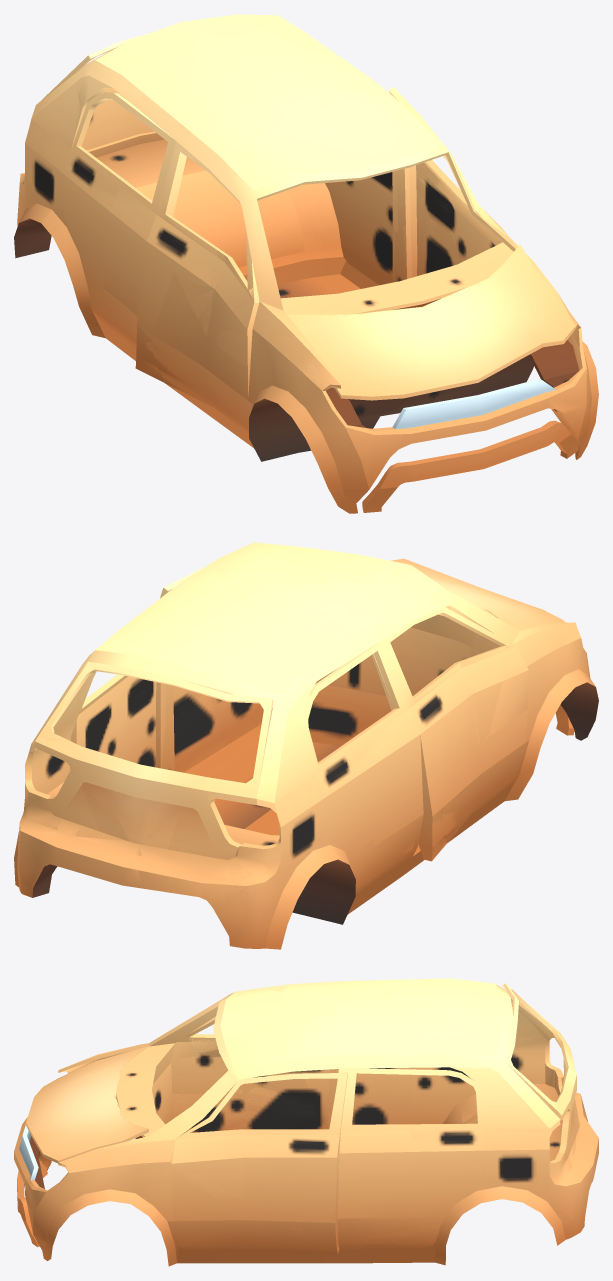
Rendered from block_car_01.fbx.
The picture shows the model from 3 angles, top to bottom: view 1: azimuth 30°, elevation 25°; view 2: azimuth 150°, elevation 25°; view 3: azimuth 270°, elevation 25°; orthographic projection. The views are drawn at different scales.
Parts seen in each view (by area): view 1: body_solid, hood_solid, door_front_r_solid, door_back_r_solid, door_front_l_solid, door_back_l_solid, trunk_solid; view 2: body_solid, door_front_r_solid, trunk_solid, door_back_r_solid, door_back_l_solid, door_front_l_solid, hood_solid; view 3: body_solid, door_front_l_solid, door_back_l_solid, door_front_r_solid, hood_solid, door_back_r_solid, trunk_solid.
Part boxes in pixels (x1=…): body_solid: x1=14, y1=14, x2=598, y2=513; hood_solid: x1=287, y1=244, x2=575, y2=400; door_front_r_solid: x1=135, y1=141, x2=259, y2=433; door_back_r_solid: x1=63, y1=92, x2=176, y2=349; door_front_l_solid: x1=388, y1=87, x2=511, y2=275; door_back_l_solid: x1=325, y1=165, x2=417, y2=285; trunk_solid: x1=41, y1=34, x2=153, y2=150; body_solid: x1=14, y1=542, x2=598, y2=949; door_front_r_solid: x1=382, y1=607, x2=528, y2=861; trunk_solid: x1=34, y1=661, x2=273, y2=859; door_back_r_solid: x1=308, y1=640, x2=423, y2=894; door_back_l_solid: x1=71, y1=671, x2=156, y2=767; door_front_l_solid: x1=160, y1=568, x2=262, y2=772; hood_solid: x1=391, y1=558, x2=565, y2=630; body_solid: x1=14, y1=978, x2=598, y2=1266; door_front_l_solid: x1=171, y1=1073, x2=347, y2=1254; door_back_l_solid: x1=337, y1=1068, x2=483, y2=1250; door_front_r_solid: x1=171, y1=1016, x2=329, y2=1133; hood_solid: x1=26, y1=1046, x2=148, y2=1163; door_back_r_solid: x1=352, y1=1067, x2=475, y2=1124; trunk_solid: x1=503, y1=983, x2=579, y2=1160.
Size of the model in its own units: 1.65 by 1.38 by 3.48.
